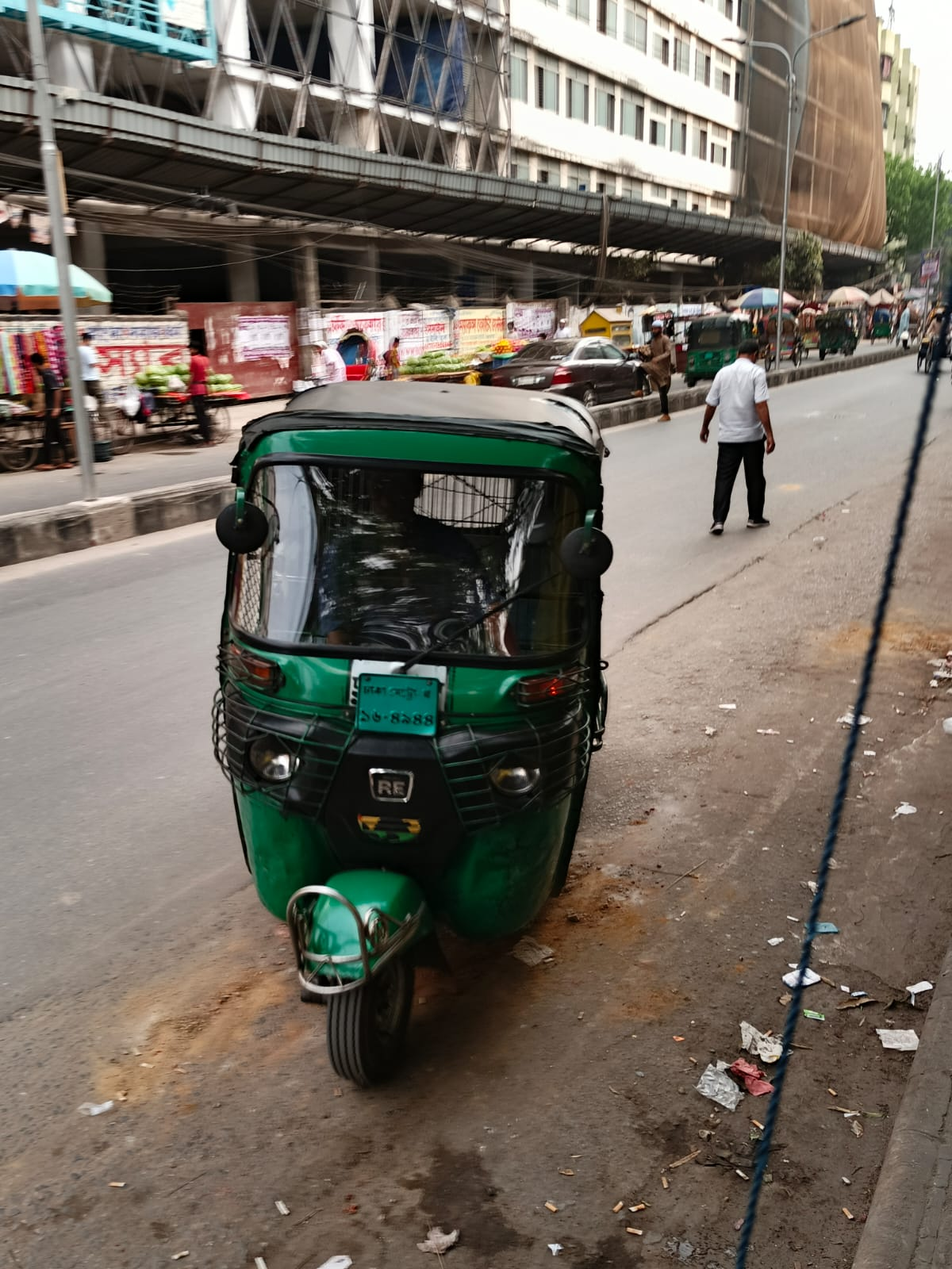cng: (206, 366, 629, 1102)
